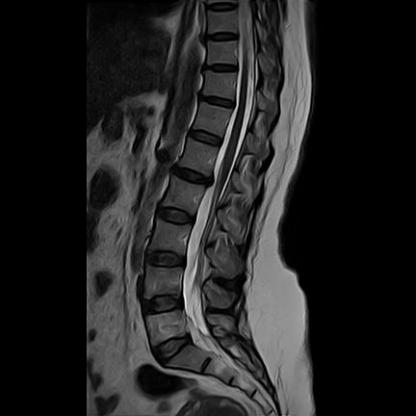Degenerative Disc Diseaserotation: (166, 164, 217, 186)
Disc Bulgerotation: (137, 291, 187, 320)
